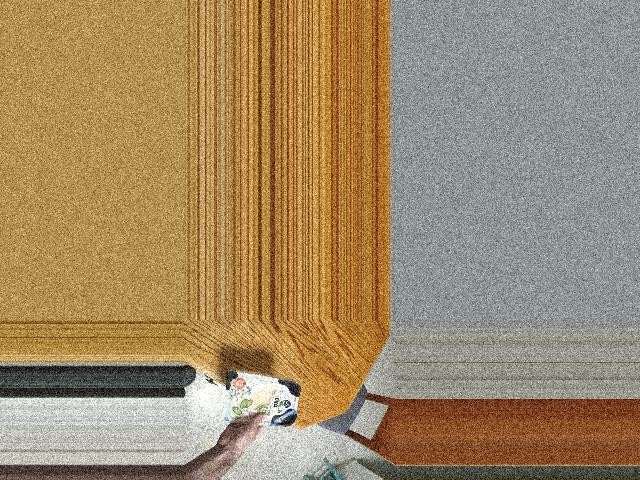cheese: (223, 371, 299, 434)
